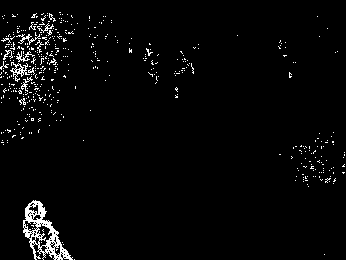person: (20, 199, 73, 259)
